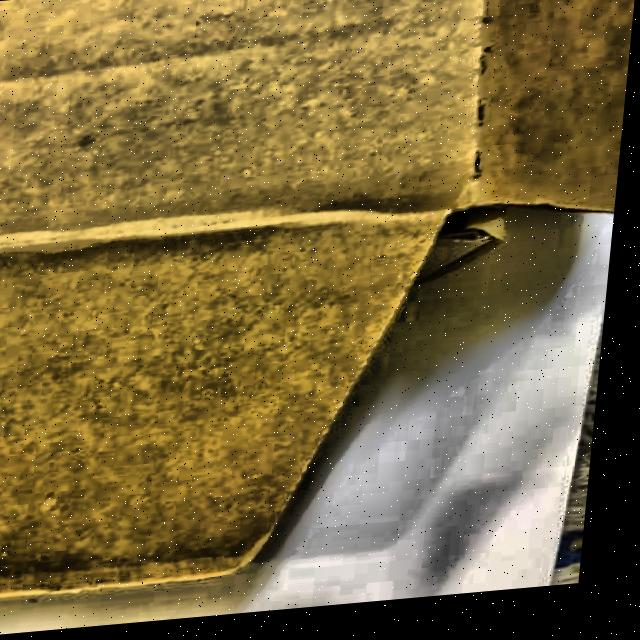cardboard: (0, 0, 640, 607)
